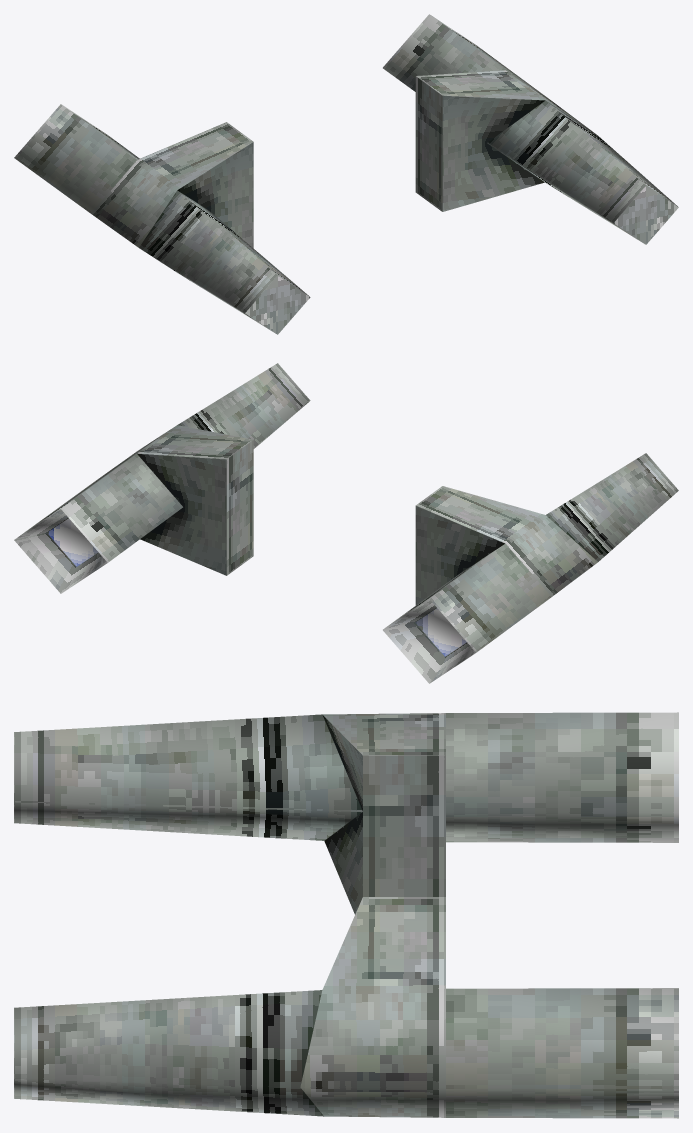
File: bwing_booster_s01_l3.fbx
3 views of the same model, one above another, from view 1: azimuth 30°, elevation 25°; view 2: azimuth 150°, elevation 25°; view 3: azimuth 270°, elevation 25° (orthographic). The views are drawn at different scales.
Visible parts, largest first — view 1: mesh_node; view 2: mesh_node; view 3: mesh_node.
Boxes of the visible parts, x1,y1,x2,y2 form: mesh_node: (14,14,678,334); mesh_node: (14,363,678,683); mesh_node: (14,712,678,1118).
Bounding box in the file's own units: 1.99 × 0.4797 × 1.62.
